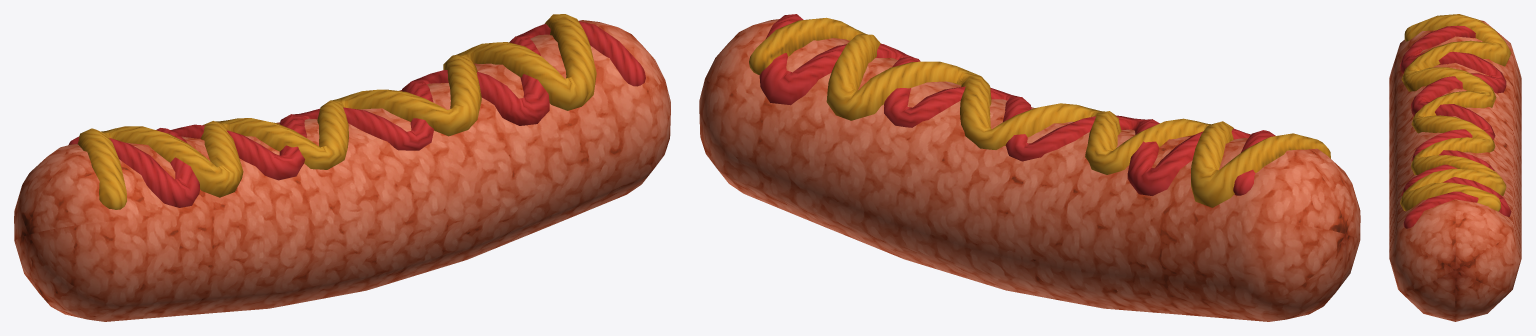
Rendered from Weener.fbx.
The picture shows the model from 3 angles, left to right: view 1: azimuth 30°, elevation 25°; view 2: azimuth 150°, elevation 25°; view 3: azimuth 270°, elevation 25°; orthographic projection. The views are drawn at different scales.
Parts seen in each view (by area): view 1: Weener, Mustard, Katsup; view 2: Weener, Mustard, Katsup; view 3: Weener, Mustard, Katsup.
Part boxes in pixels (x1,y1,x2,y2): Weener: (14,20,670,321); Mustard: (77,14,596,209); Katsup: (68,21,645,207); Weener: (699,19,1360,321); Mustard: (749,17,1330,207); Katsup: (759,14,1275,195); Weener: (1389,20,1521,321); Mustard: (1400,14,1511,211); Katsup: (1400,25,1511,228).
Size of the model in its own units: 0.0584 by 0.0183 by 0.0146.
